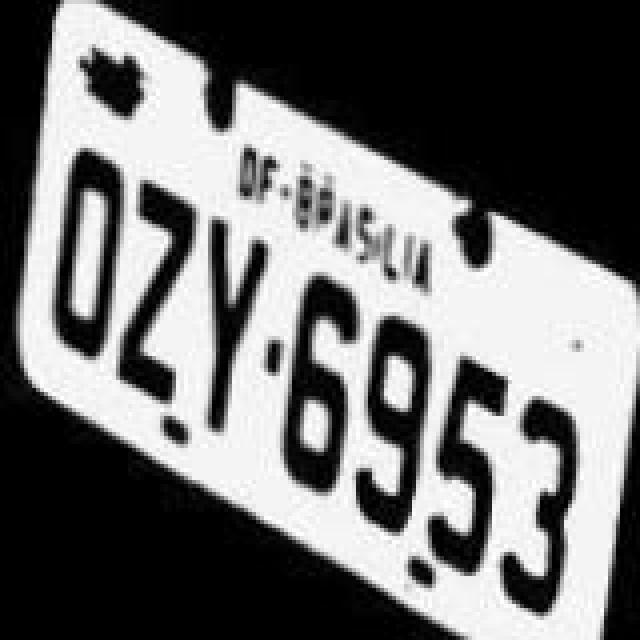3: (494, 380, 578, 620)
5: (418, 338, 506, 586)
6: (282, 270, 366, 518)
9: (344, 302, 428, 538)
O: (40, 134, 128, 378)
Y: (196, 206, 272, 462)
Z: (112, 166, 196, 422)
